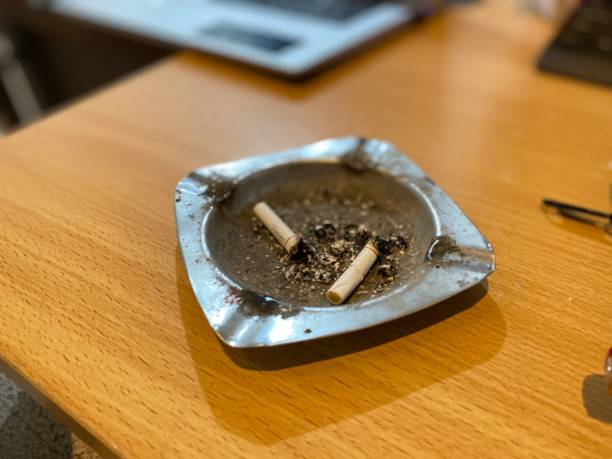cigarette: (323, 240, 380, 307), (252, 200, 303, 259)
